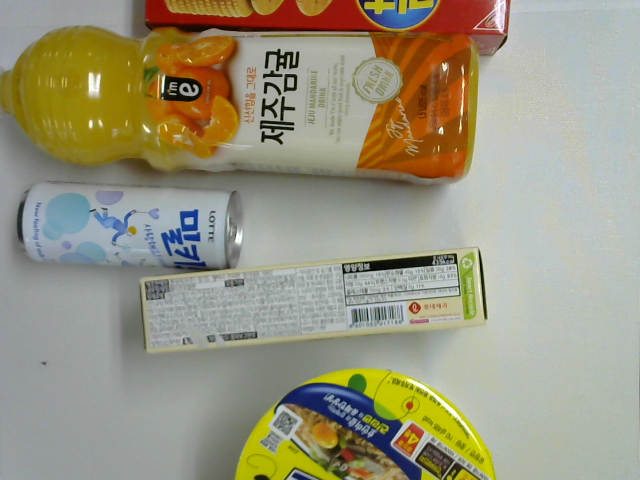Chicchok_Tiramisu: (134, 243, 492, 362)
Jeju_Tangerine_1.5L: (1, 22, 481, 188)
Jinlamyeon_Mild_Taste_Large_Cup: (232, 368, 496, 480)
Milkies_250ml: (10, 176, 245, 274)
Ritz_Cracker: (143, 1, 513, 60)
